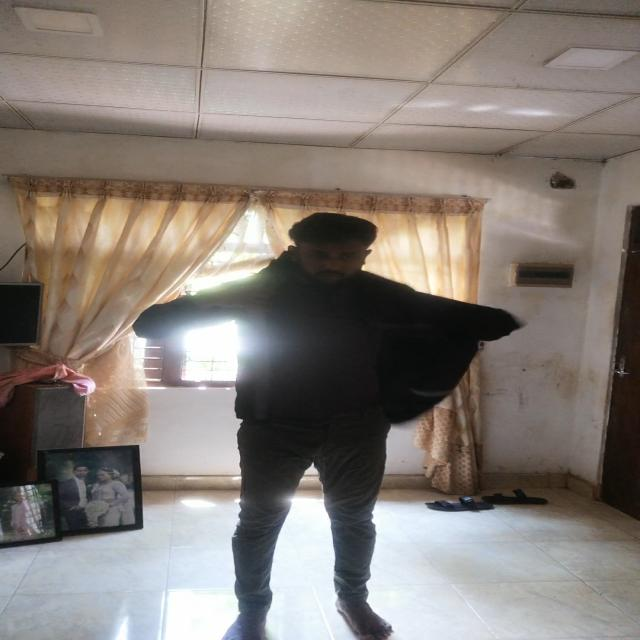Jacket_Wearer: (141, 249, 505, 459)
Person: (145, 197, 511, 640)
